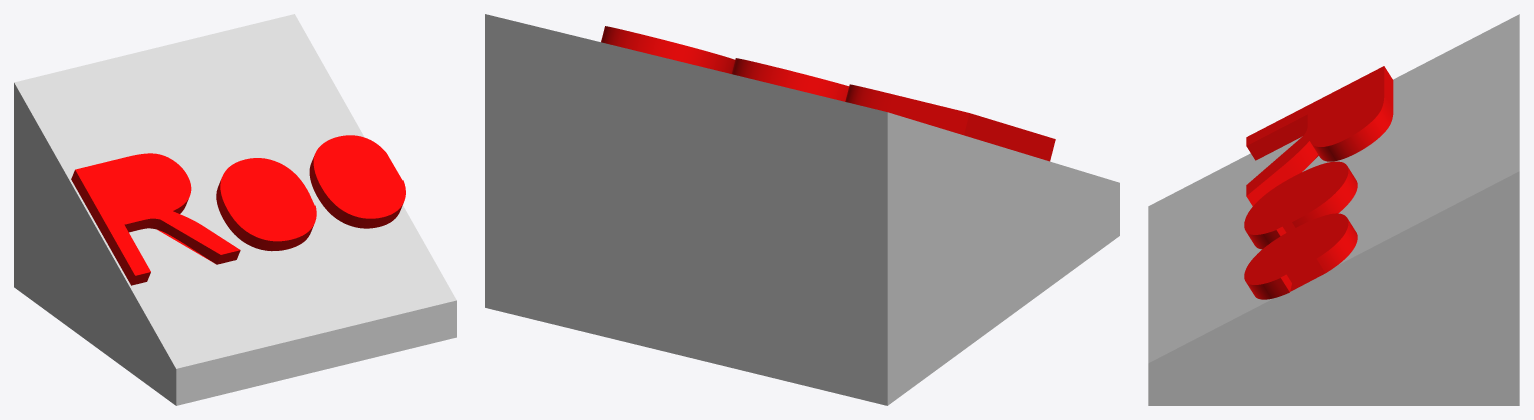
The model's file is testRecv.FBX.
3 views of the same model, side by side, from view 1: azimuth 30°, elevation 25°; view 2: azimuth 150°, elevation 25°; view 3: azimuth 270°, elevation 25° (orthographic). The views are drawn at different scales.
Parts seen in each view (by area): view 1: Box001, Text001; view 2: Box001, Text001; view 3: Box001, Text001.
Part boxes in pixels (x1,y1,x2,y2): Box001: (14, 14, 456, 405); Text001: (71, 135, 405, 285); Box001: (485, 14, 1119, 405); Text001: (601, 26, 1055, 161); Box001: (1148, 14, 1519, 405); Text001: (1244, 66, 1393, 299).
Bounding box in the file's own units: 152 × 105 × 150.
